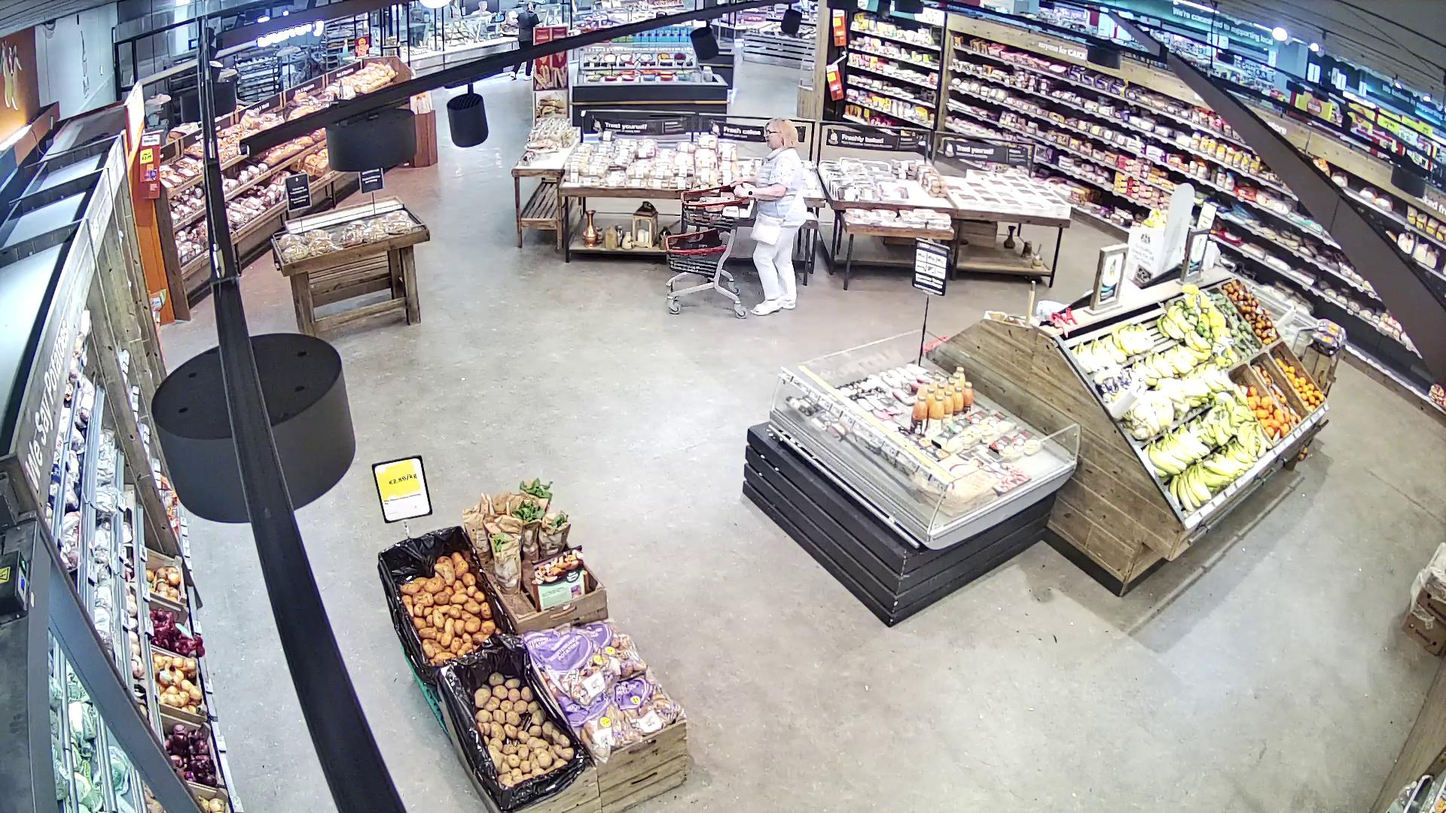backpack-or-handbag: (750, 212, 783, 246)
filled-trolly: (665, 181, 754, 319)
person: (734, 118, 806, 314)
person-with-basket-trolly-and-backpack-handbag: (665, 118, 806, 318)
